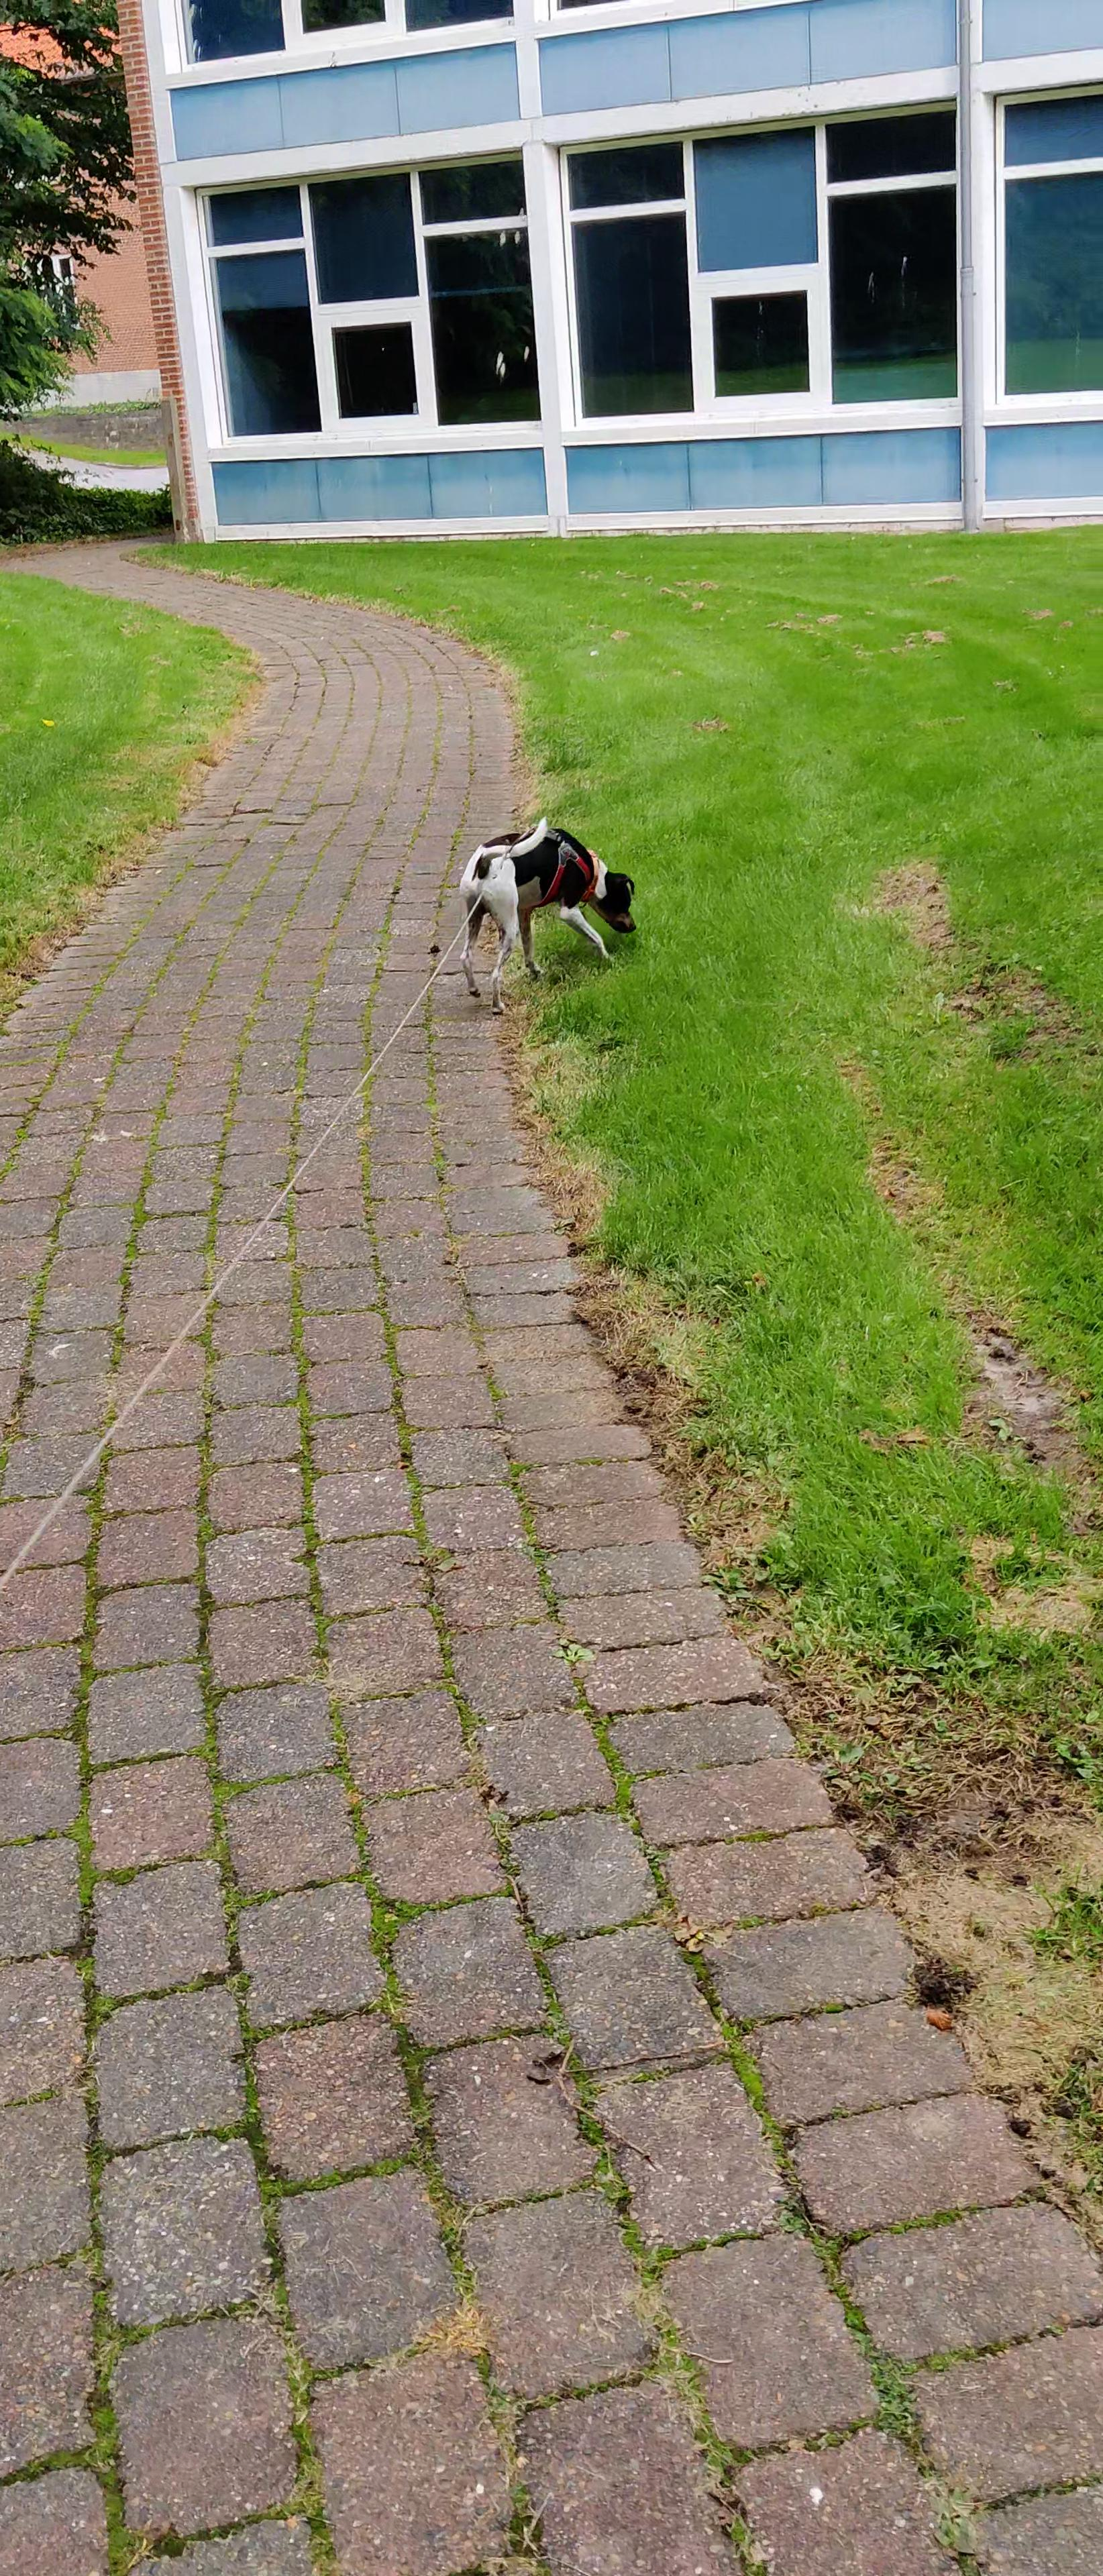Dog: (455, 813, 639, 1019)
